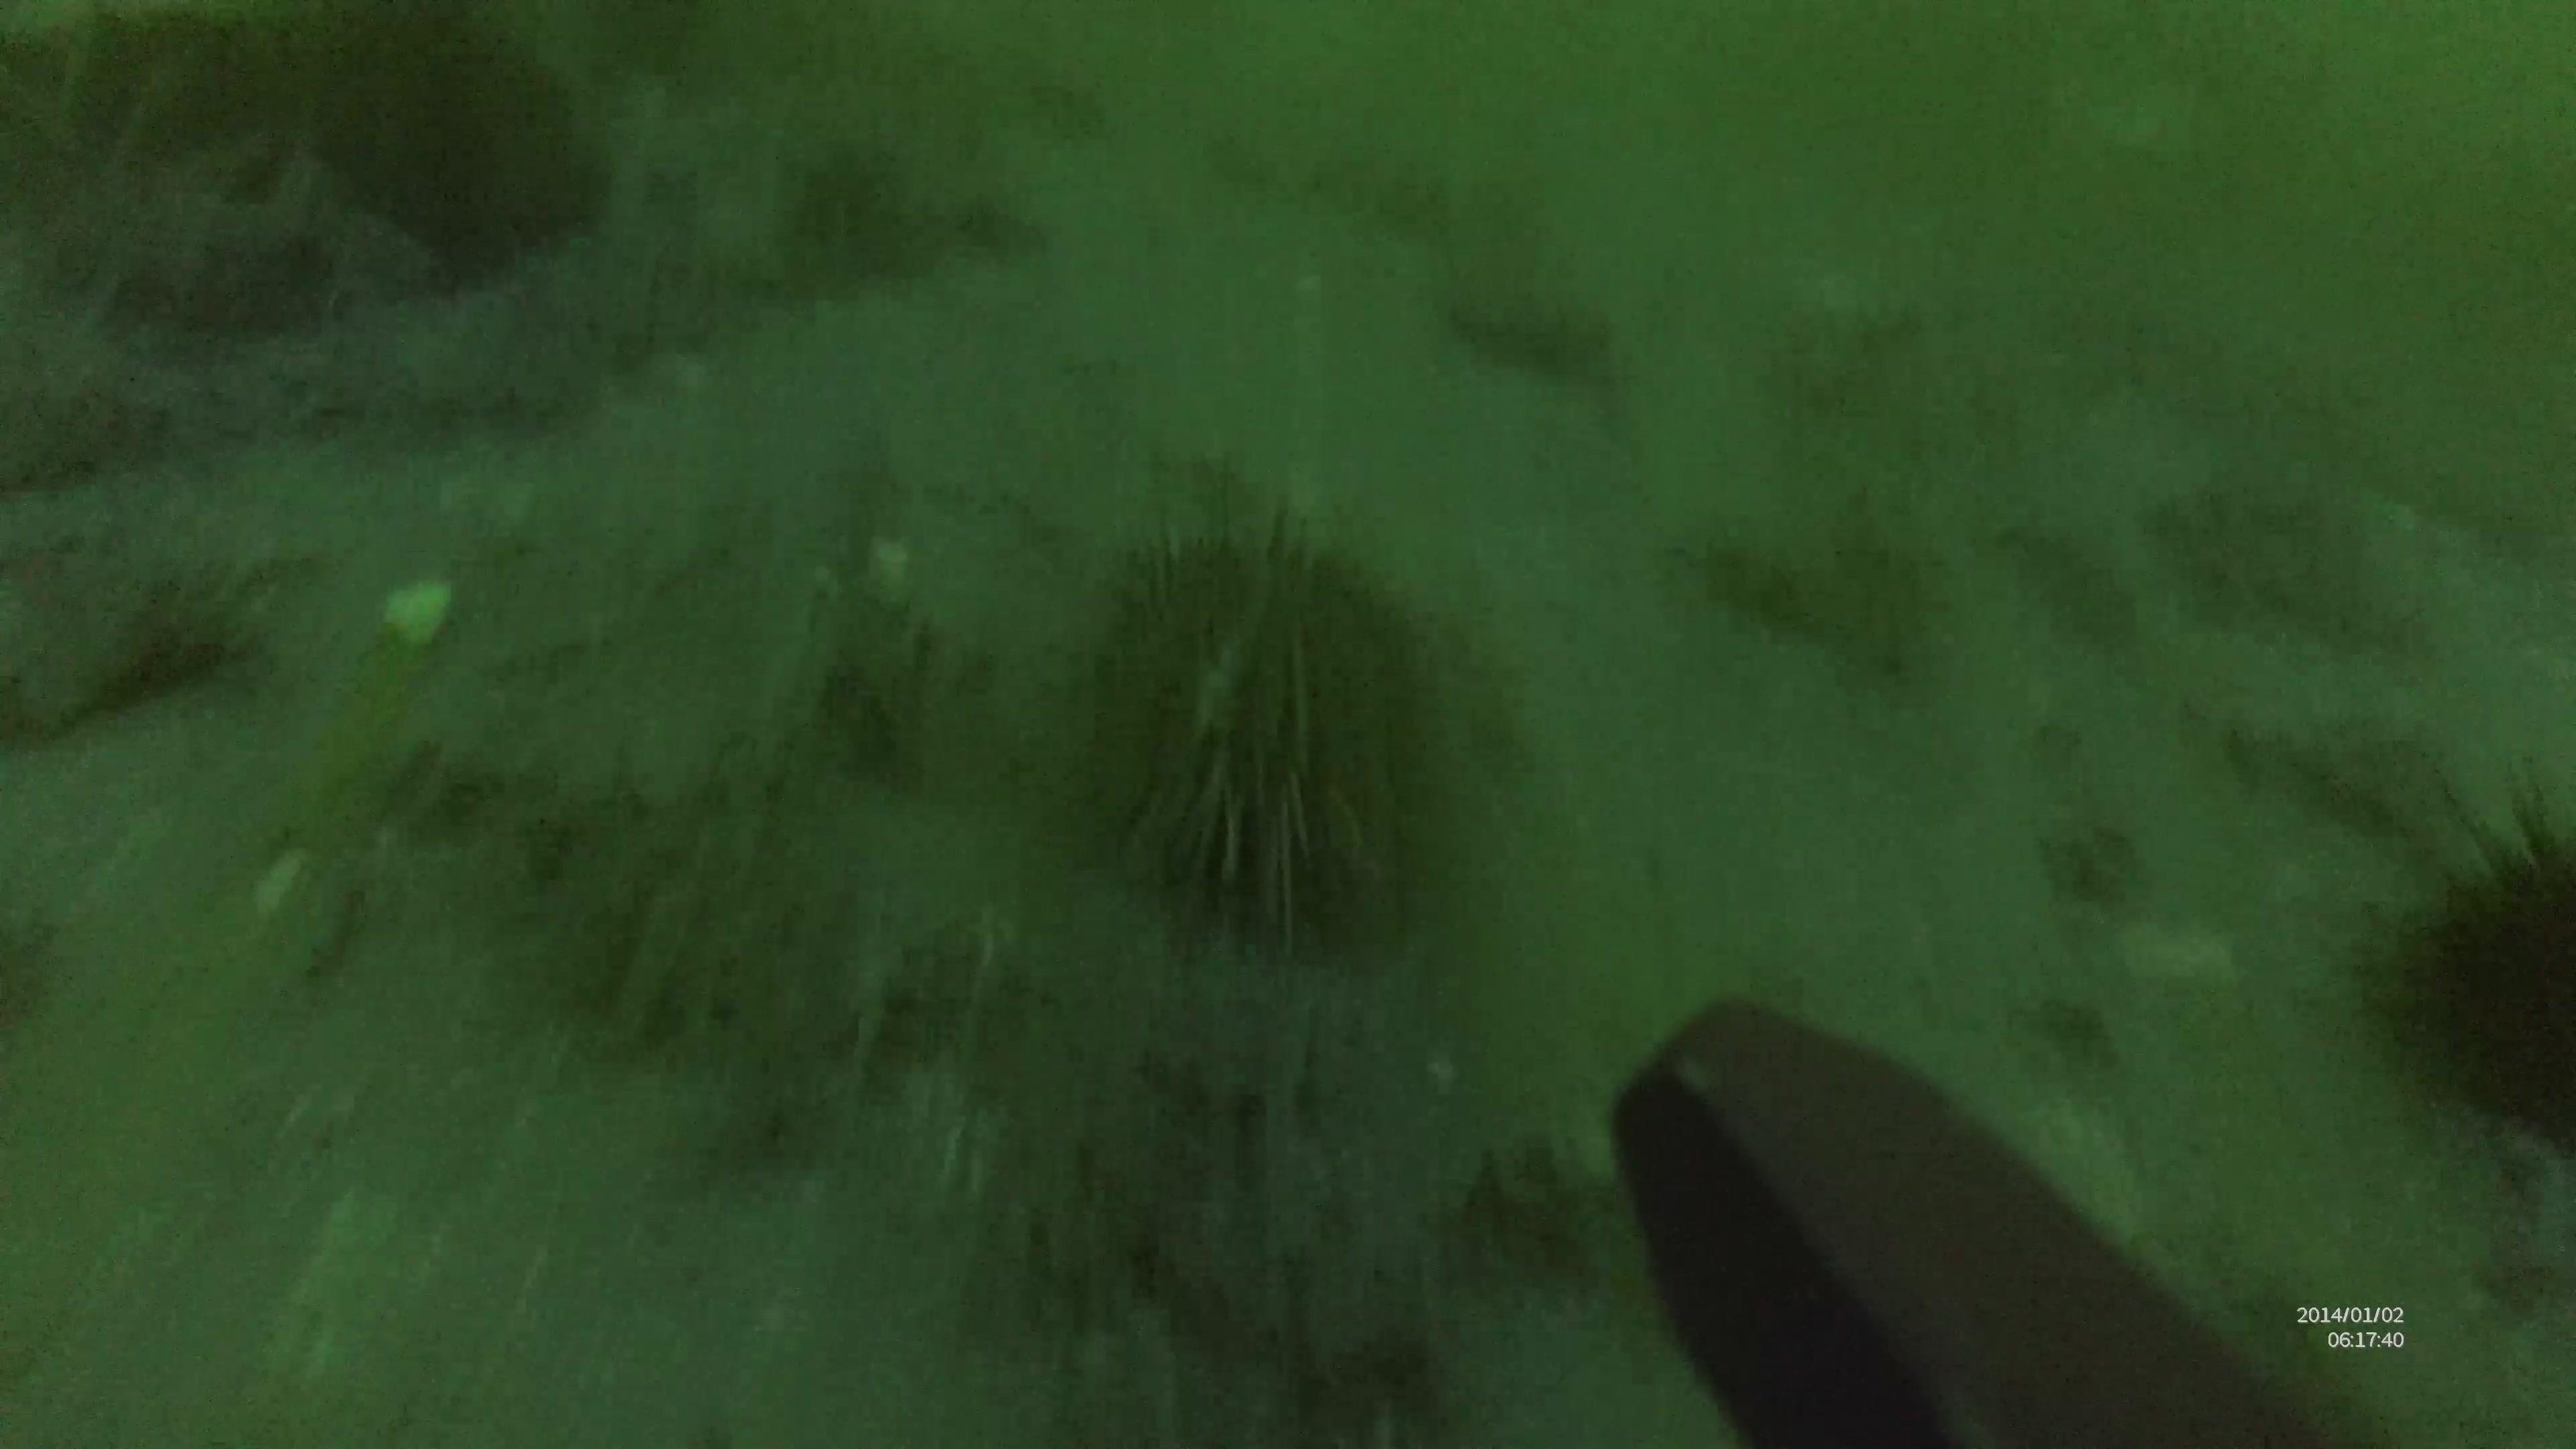echinus: (1063, 494, 1453, 947), (2346, 755, 2574, 1161)
scallop: (1065, 494, 1453, 948)
